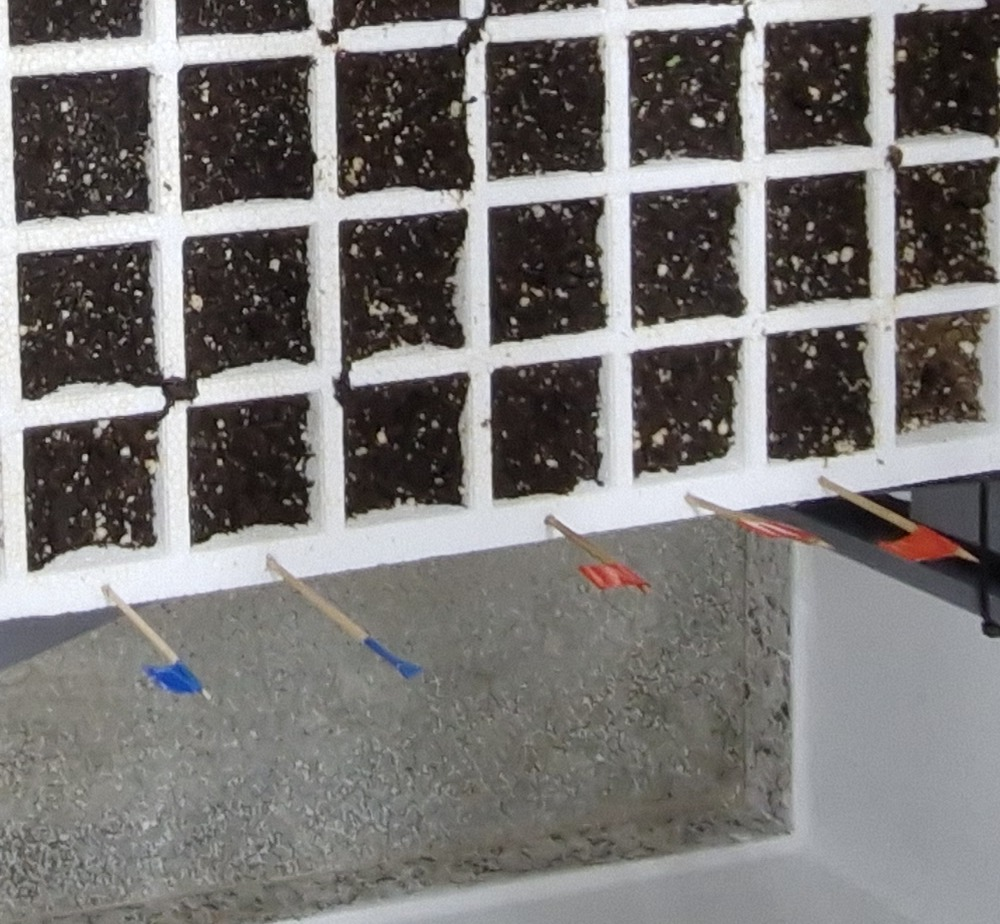Germinacao: (664, 55, 681, 66)
